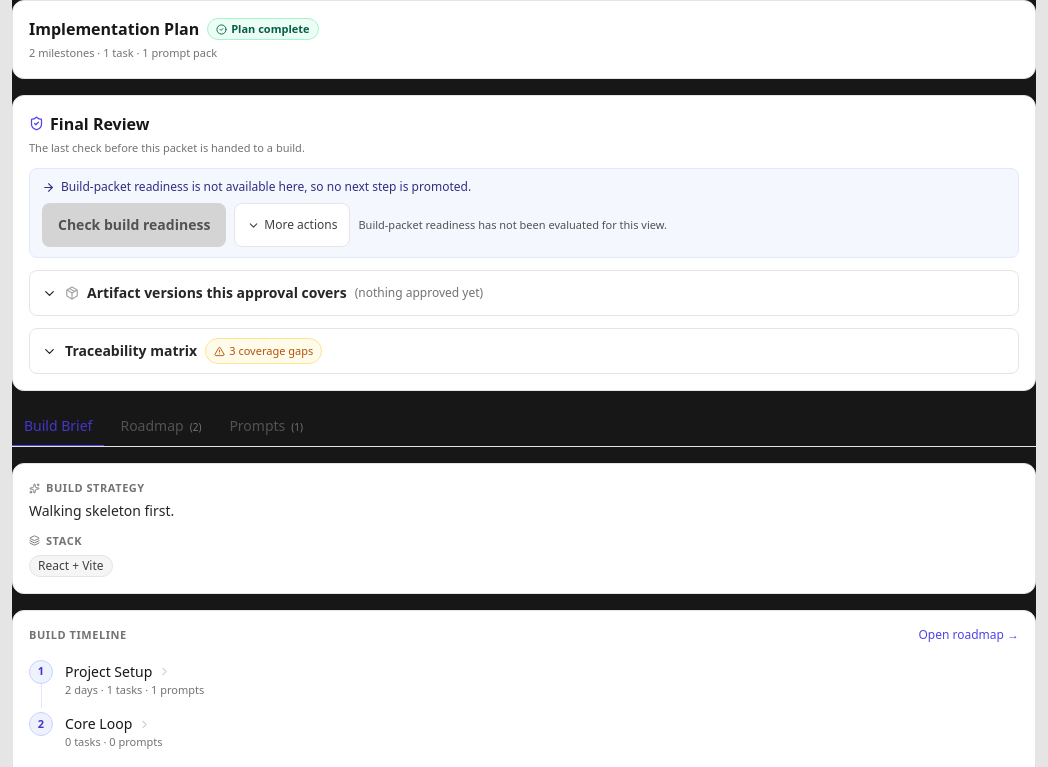
Test: ImplementationPlanRenderer — self-reported task progress on milestone rows › keeps the neutral "tracked" chip for a converted task with no progress yet
This screenshot has width=1048, height=767.
Click the button "Roadmap(2)" at (161, 427), box [108,407,213,447]
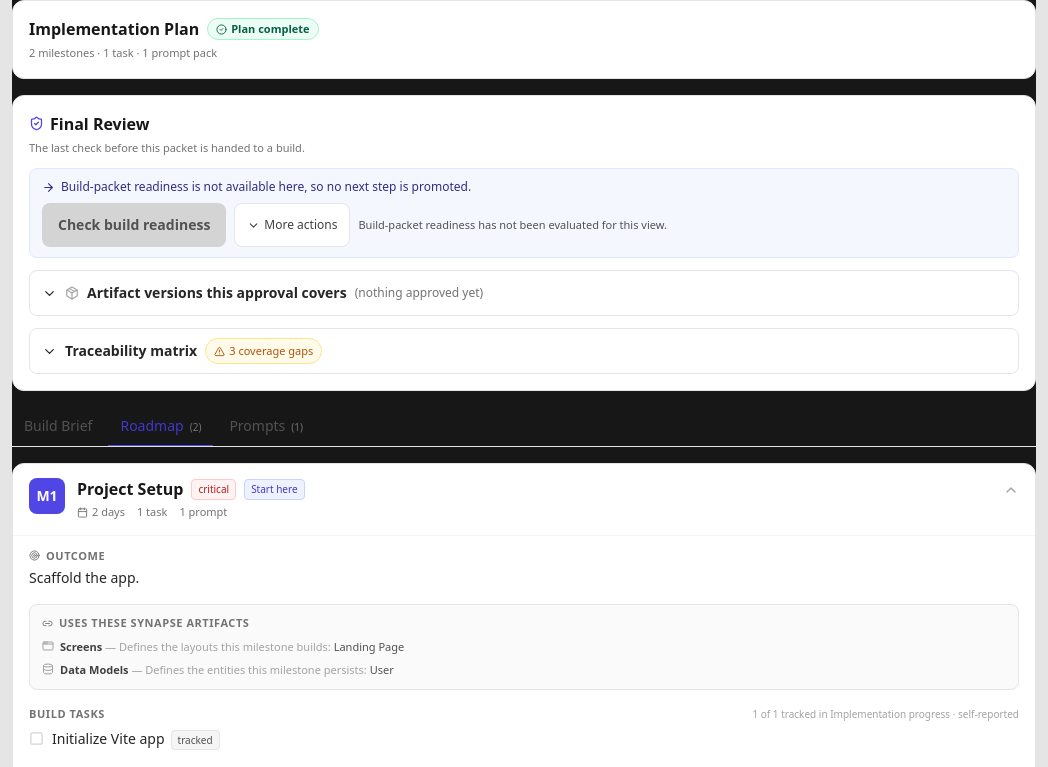
Now the text titled "Tracked in Implementation progress" is shown, box [178,733,213,747]
